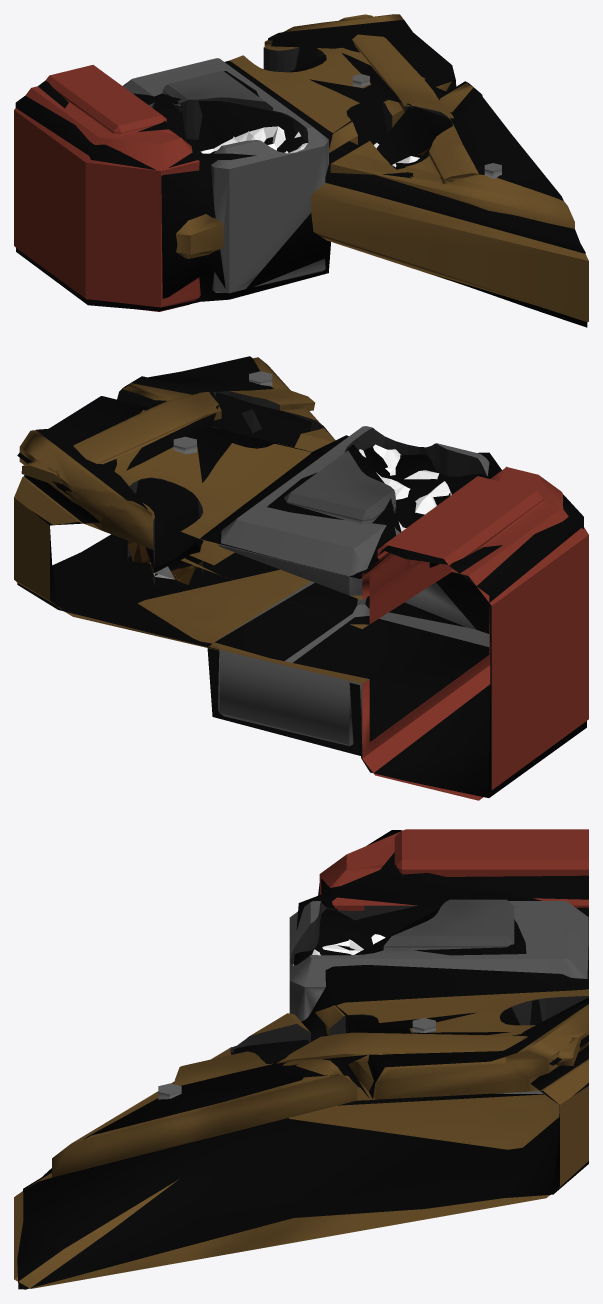
The model's file is newsh4-48-d.glb.
3 views of the same model, one above another, from view 1: azimuth 30°, elevation 25°; view 2: azimuth 150°, elevation 25°; view 3: azimuth 270°, elevation 25° (orthographic). The views are drawn at different scales.
Parts seen in each view (by area): view 1: newsh4-48, newsh4-48_outline; view 2: newsh4-48, newsh4-48_outline; view 3: newsh4-48, newsh4-48_outline.
Part boxes in pixels (<box>): newsh4-48: <box>14,14,588,322</box>; newsh4-48_outline: <box>15,19,587,327</box>; newsh4-48: <box>14,357,588,800</box>; newsh4-48_outline: <box>17,356,586,797</box>; newsh4-48: <box>14,829,588,1288</box>; newsh4-48_outline: <box>17,830,588,1289</box>.
Bounding box in the file's own units: 1.58 × 0.7439 × 1.6.
14 materials, 13 textured.
